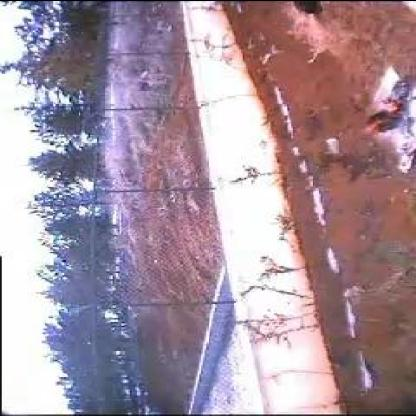foggia-v2-map80-epoch100 - v1 4323: (360, 97, 402, 133)
